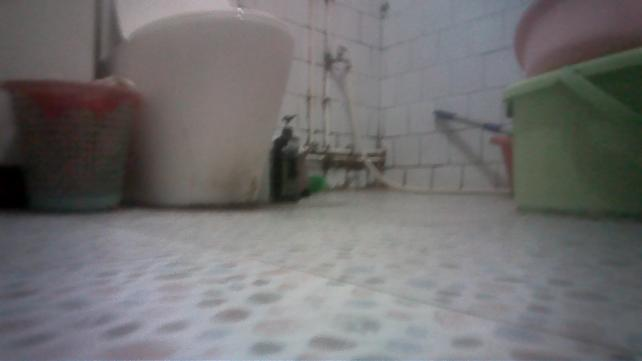toilet: (94, 2, 289, 204)
